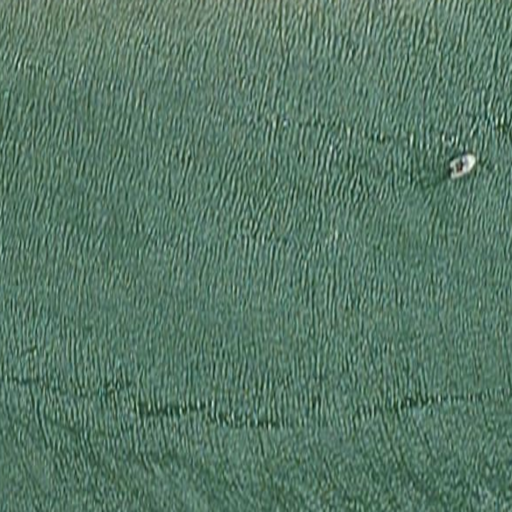ship: (446, 151, 479, 183)
